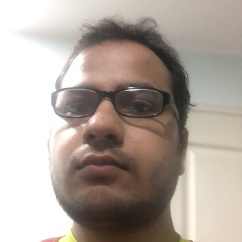glasses: (45, 87, 176, 120)
